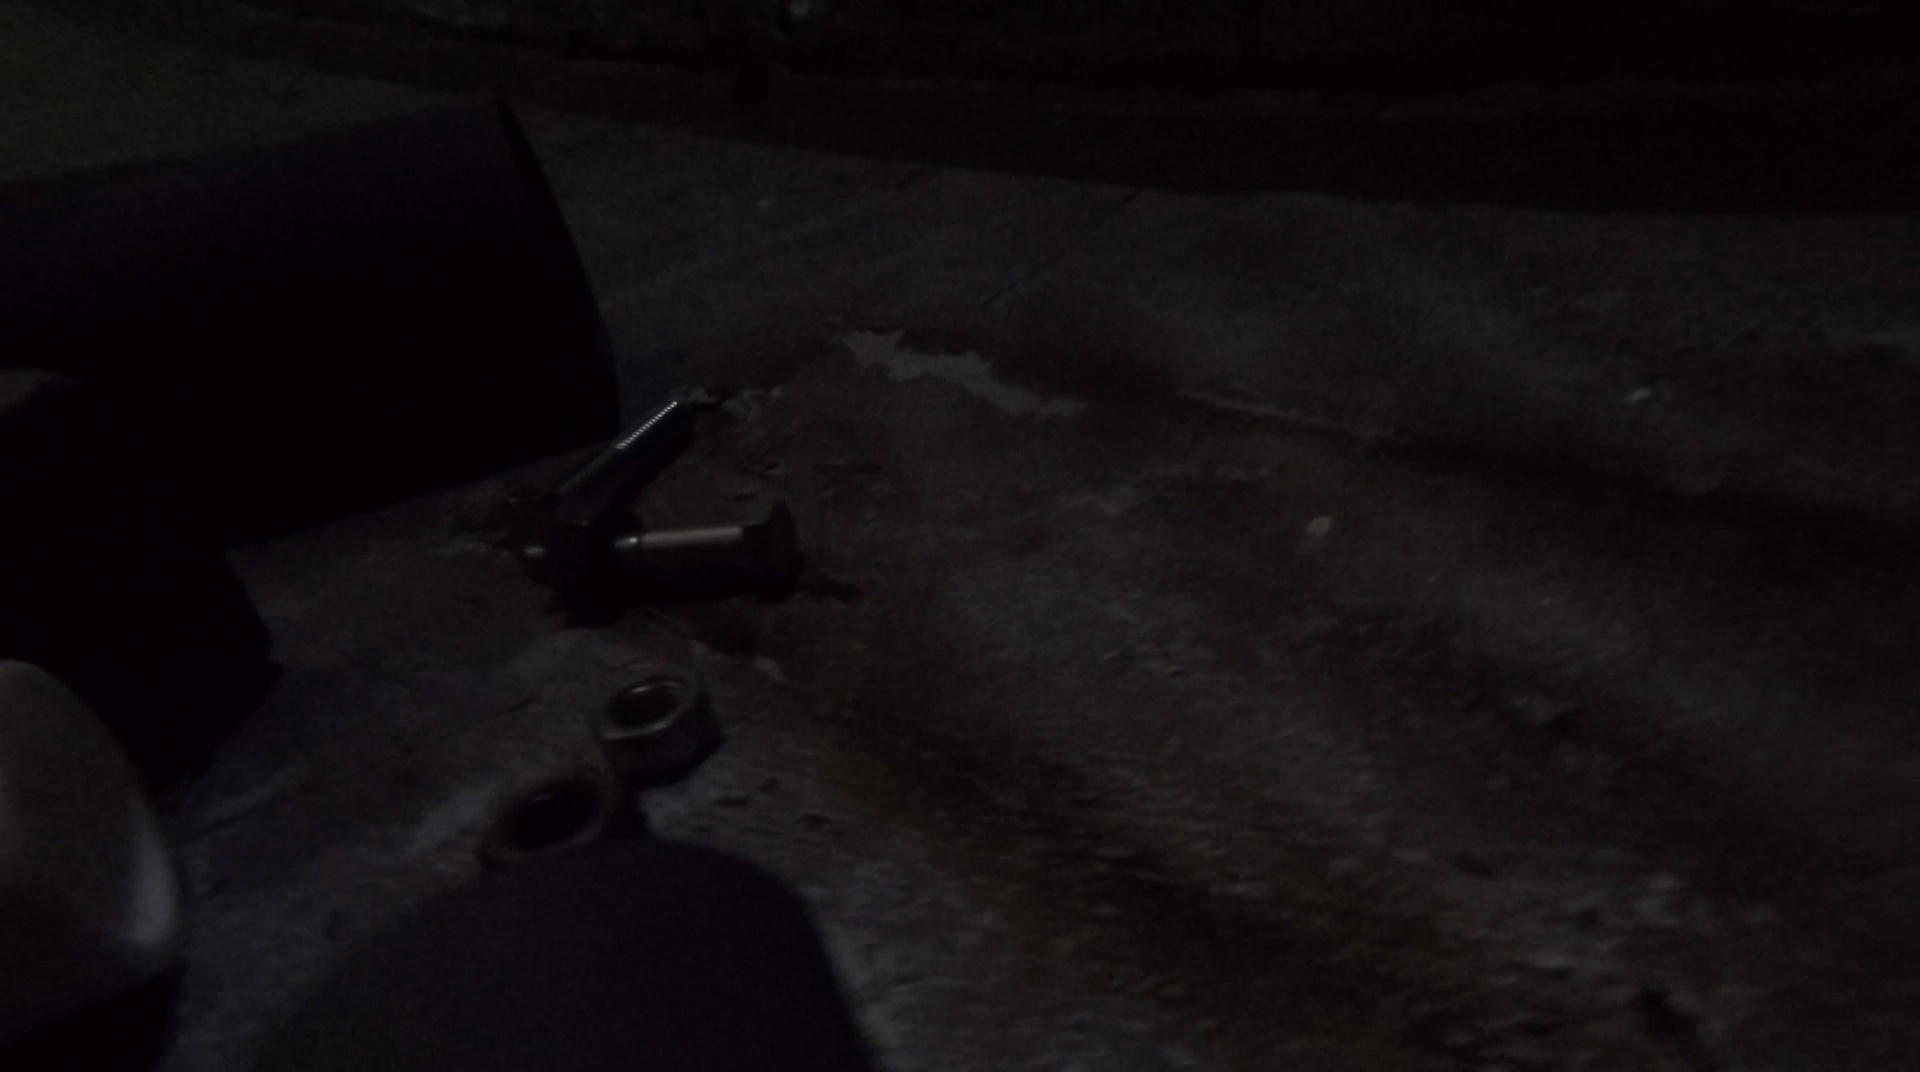bolt: (508, 400, 692, 534), (524, 494, 796, 581)
nut: (477, 773, 644, 866), (593, 669, 723, 778)
pipe: (1, 92, 622, 556), (1, 651, 189, 1039), (375, 835, 812, 941)
